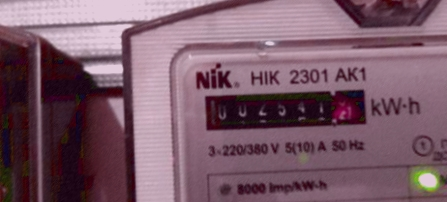0: (213, 98, 227, 120), (234, 95, 247, 117)
1: (313, 94, 325, 114)
2: (254, 96, 267, 116)
4: (294, 93, 307, 115)
5: (273, 94, 286, 117)
6: (336, 105, 347, 121)
screen: (193, 78, 376, 138)
